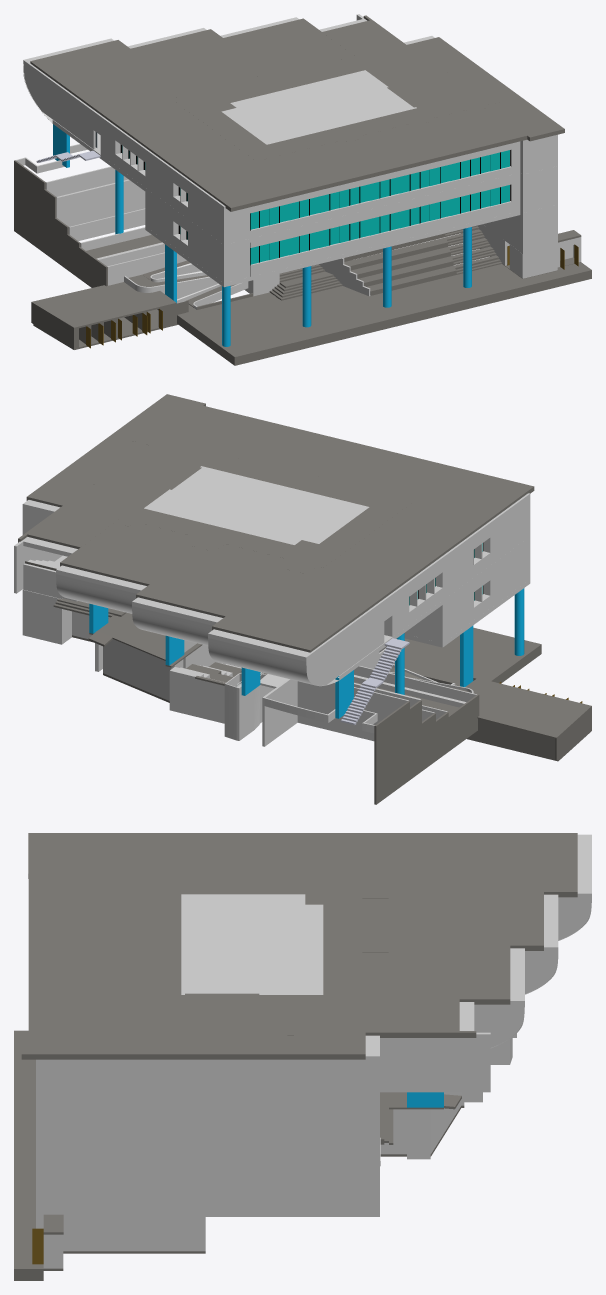
File: XOD01.glb
The picture shows the model from 3 angles, top to bottom: view 1: azimuth 30°, elevation 25°; view 2: azimuth 150°, elevation 25°; view 3: azimuth 270°, elevation 25°; orthographic projection. The views are drawn at different scales.
Visible parts, largest first — view 1: Object_3.006, Object_4779.005, Object_1.008, Object_4.006, Object_13128, Object_5305.004, Object_5012.004, Object_5586.003, Object_5445.003, Object_5144.004, Object_5713.003, Object_5114.005 (+39 smaller); view 2: Object_3.006, Object_1.008, Object_4.006, Object_5970.003, Object_4779.005, Object_13128, Object_5144.004, Object_5150.004, Object_13122, Object_5016.005, Object_4920.005, Object_6009.003 (+28 smaller); view 3: Object_3.006, Object_1.008, Object_4.006, Object_5744.003, Object_4992.005, Object_5716.003, Object_4995.004, Object_5719.003, Object_5443.003, Object_5442.003, Object_4779.005, Object_5213.004 (+24 smaller).
Boxes of the visible parts, x1,y1,x2,y2 form: Object_3.006: [30, 18, 564, 211]; Object_4779.005: [177, 262, 591, 365]; Object_1.008: [172, 15, 501, 161]; Object_4.006: [221, 70, 416, 144]; Object_13128: [31, 282, 176, 328]; Object_5305.004: [250, 201, 511, 276]; Object_5012.004: [57, 180, 145, 226]; Object_5586.003: [250, 166, 511, 238]; Object_5445.003: [188, 221, 249, 283]; Object_5144.004: [14, 160, 45, 252]; Object_5713.003: [188, 182, 249, 244]; Object_5114.005: [52, 120, 557, 248]; Object_3.006: [26, 394, 534, 652]; Object_1.008: [18, 435, 412, 574]; Object_4.006: [144, 466, 369, 544]; Object_5970.003: [22, 493, 530, 661]; Object_4779.005: [394, 627, 541, 686]; Object_13128: [465, 678, 591, 738]; Object_5144.004: [374, 701, 409, 804]; Object_5150.004: [297, 681, 408, 741]; Object_13122: [468, 707, 591, 760]; Object_5016.005: [103, 639, 170, 700]; Object_4920.005: [169, 667, 224, 723]; Object_6009.003: [208, 638, 338, 686]; Object_3.006: [21, 833, 577, 1059]; Object_1.008: [133, 877, 476, 1041]; Object_4.006: [181, 894, 323, 994]; Object_5744.003: [354, 1037, 490, 1108]; Object_4992.005: [205, 1164, 330, 1214]; Object_5716.003: [202, 1059, 330, 1108]; Object_4995.004: [59, 1164, 181, 1214]; Object_5719.003: [59, 1059, 181, 1108]; Object_5443.003: [202, 1114, 330, 1160]; Object_5442.003: [59, 1111, 181, 1160]; Object_4779.005: [14, 1030, 43, 1280]; Object_5213.004: [63, 1217, 181, 1251].
Size of the model in its own units: 55.92 by 17.81 by 43.93.
